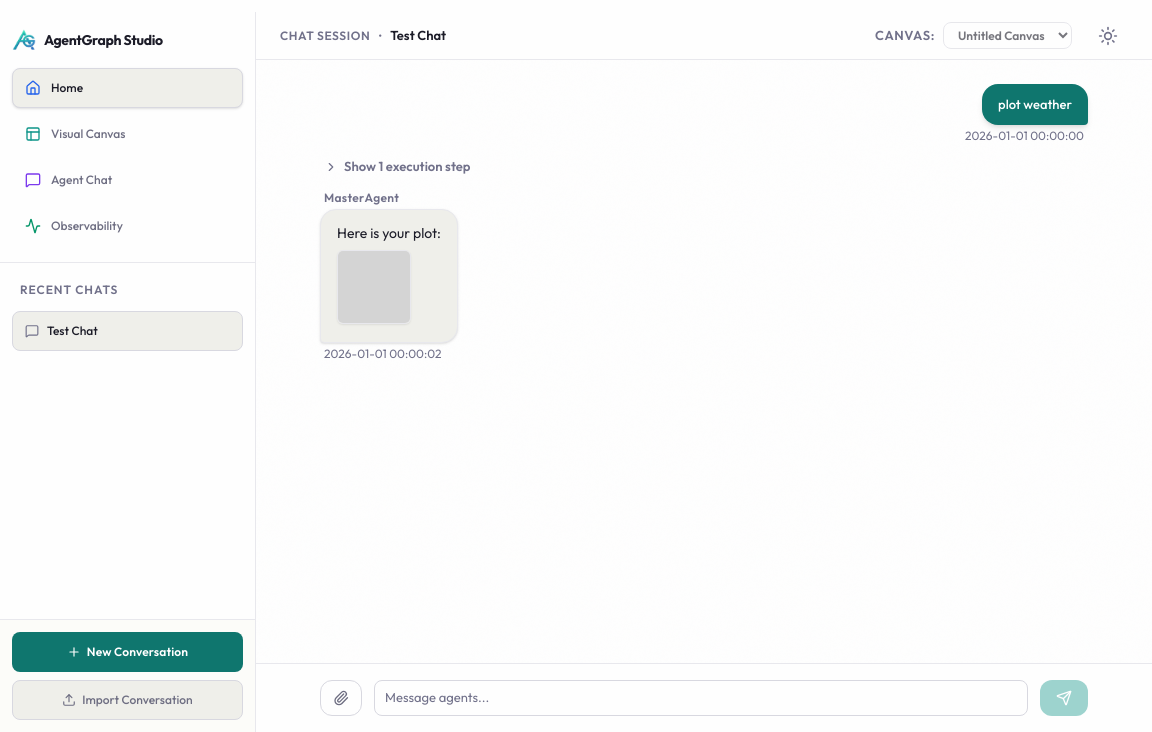
Test: ChatPage component › renders plots from markdown image links resolved via apiOrigin
The image size is (1152, 732).
// Expand steps and check that the tool result step also renders the image
Click the button "Show 1 execution step" at coordinates (397, 167), box [320,157,474,177]
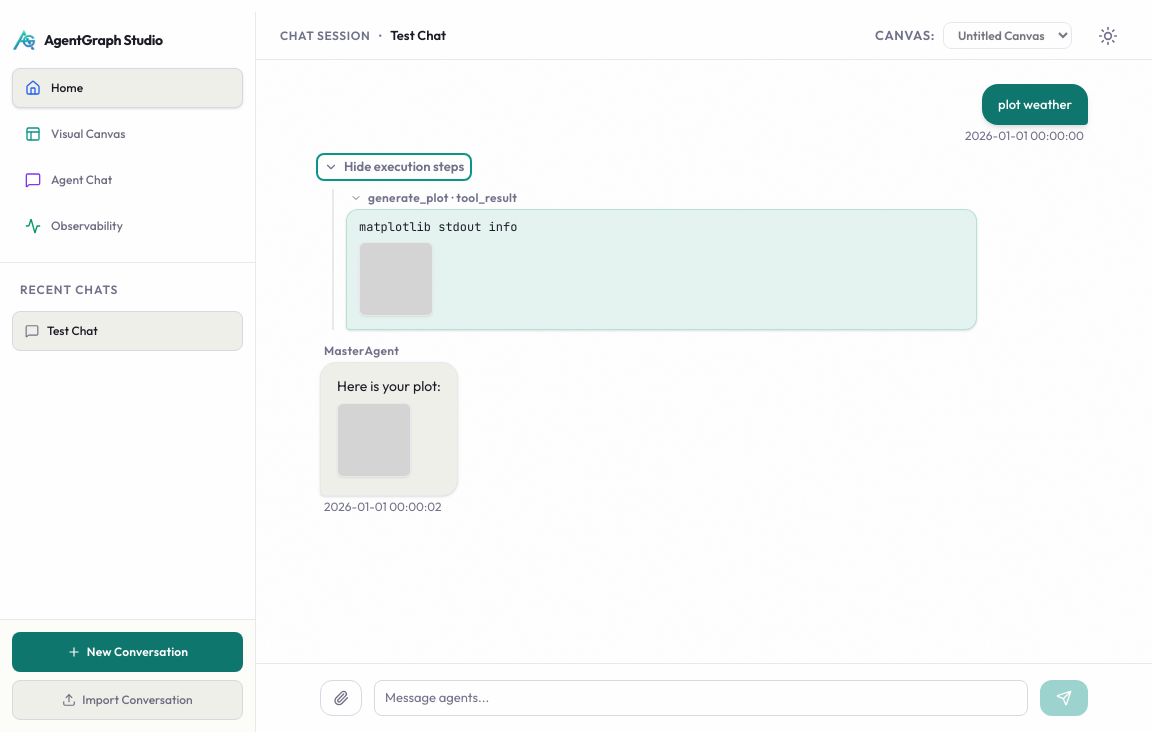
Check: the text "matplotlib stdout info" is shown, box [359,219,517,235]
